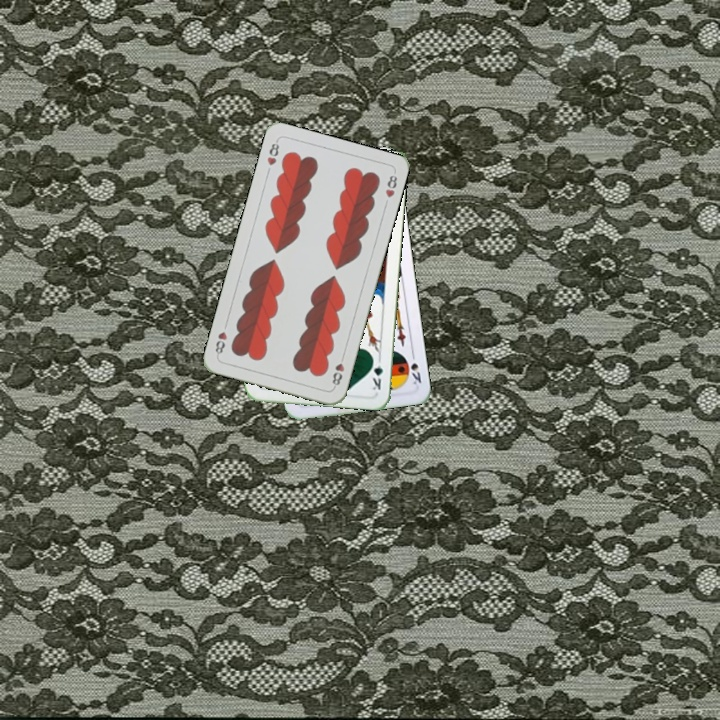GK: (368, 353, 385, 393)
H8: (328, 350, 347, 390), (263, 136, 282, 168)
SK: (402, 348, 424, 387)
